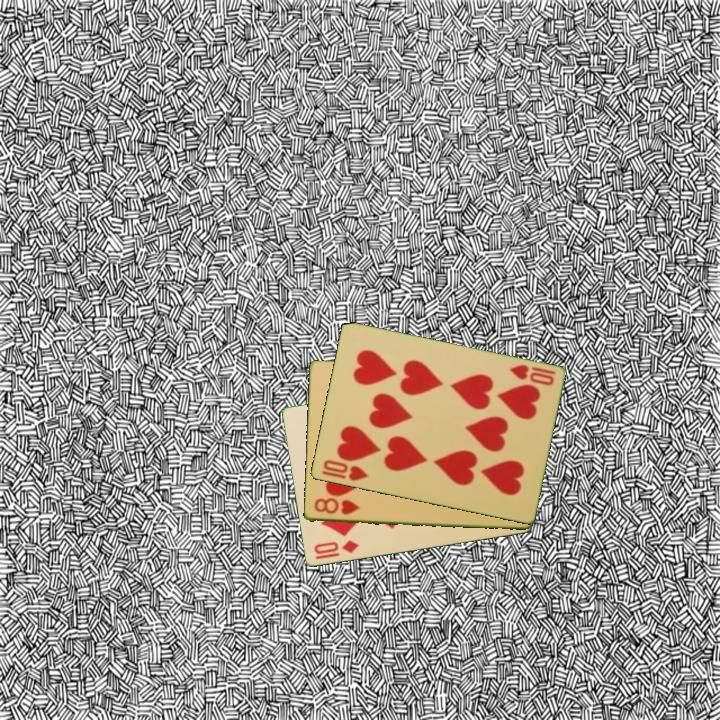10d: (310, 537, 362, 563)
10h: (317, 456, 371, 484), (506, 361, 558, 389)
8h: (310, 496, 362, 518)
